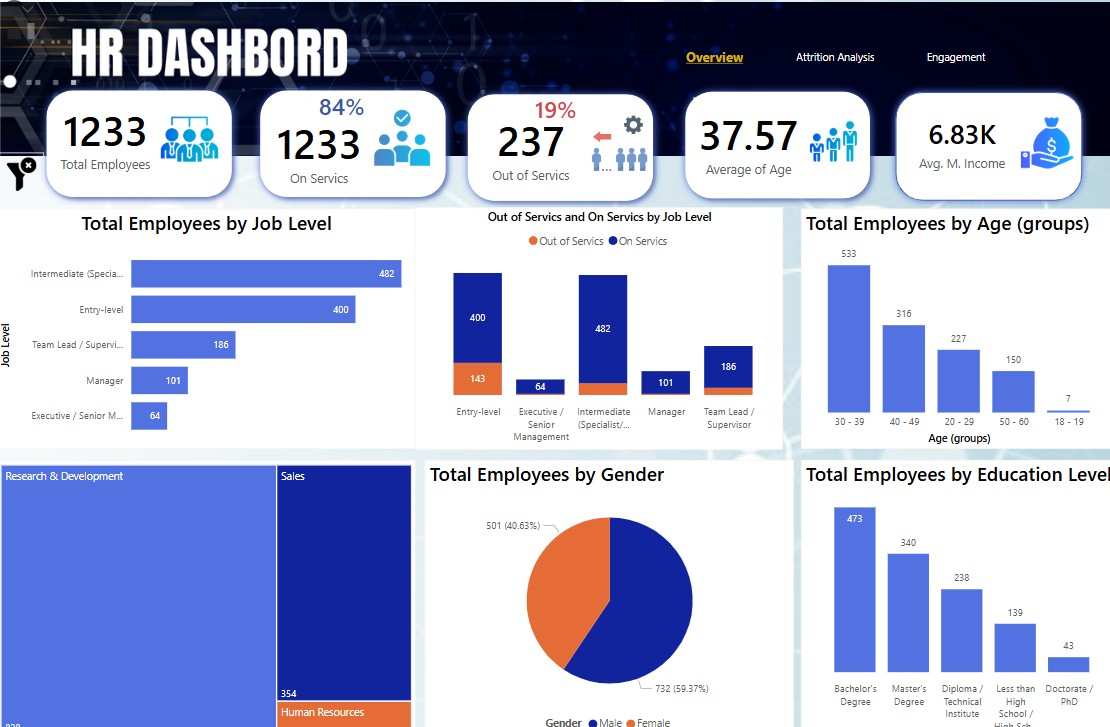

Layout of this report page (visuals, bound fields, positions):
{"tool":"powerbi","page":{"name":"Overview","canvas":[1280,850],"ordinal":0},"visuals":[{"type":"actionButton","box":[0,0,100,40],"z":0},{"type":"shape","box":[778.1,101.1,229.4,140.2],"z":0,"group":"g4"},{"type":"shape","box":[1020.6,102.5,229.4,140.2],"z":0,"group":"g3"},{"type":"shape","box":[530,103.8,230,140],"z":0,"group":"g1"},{"type":"image","box":[0,0,1279.8,191.7],"z":1000},{"type":"card","fields":{"Values":["Avg(HR Data.Age)"]},"box":[796,117.4,126.1,101.9],"z":1000,"group":"g4"},{"type":"card","fields":{"Values":["Measures Table.Out of Servics"]},"box":[547.3,122.9,128.5,103.9],"z":1000,"group":"g1"},{"type":"shape","box":[48.8,99.5,230,140],"z":2000},{"type":"image","box":[674.1,128.2,76.8,82.3],"z":2000,"group":"g1"},{"type":"group","id":"g1","title":"Group 2","box":[530,103.8,230,140],"z":3000},{"type":"card","fields":{"Values":["Measures Table.Out Of Servics %"]},"box":[590.3,115.6,100,32.5],"z":3000,"group":"g1"},{"type":"group","id":"g2","title":"Group 4","box":[778.1,101.1,229.4,140.2],"z":4000},{"type":"group","id":"g3","title":"Group 6","box":[1020.6,102.5,229.5,140],"z":5000},{"type":"card","fields":{"Values":["Avg(HR Data.MonthlyIncome)"]},"box":[1040.9,116.9,125.6,103.9],"z":6000},{"type":"barChart","fields":{"Y":["Measures Table.Total Employees"],"Category":["HR Data.Job Level"]},"box":[0,244,479.3,274.3],"z":7000},{"type":"image","box":[920.9,135.7,70.7,63.5],"z":7002,"group":"g4"},{"type":"image","box":[177.5,127.5,87.5,75],"z":8000},{"type":"group","id":"g4","title":"Group 5","box":[778.1,101.1,229.4,140.2],"z":8001,"group":"g2"},{"type":"image","box":[1166,133.3,70.6,70.1],"z":8002,"group":"g3"},{"type":"card","fields":{"Values":["Measures Table.Total Employees"]},"box":[61.2,111.2,127.5,102.5],"z":9000},{"type":"columnChart","fields":{"Y":["Measures Table.Total Employees"],"Category":["HR Data.Age (groups)"]},"box":[919.6,244,360.9,274.3],"z":10000},{"type":"pieChart","fields":{"Category":["HR Data.Gender"],"Y":["Measures Table.Total Employees"]},"box":[489.4,531.3,421.5,319],"z":11000},{"type":"treemap","fields":{"Values":["Measures Table.Total Employees"],"Group":["HR Data.Department Hierarchy.Department","HR Data.Department Hierarchy.JobRole"]},"box":[0,531.3,479.3,319],"z":12000},{"type":"columnChart","fields":{"Y":["Measures Table.Total Employees"],"Category":["HR Data.Education Level"]},"box":[920,531.1,360,318.9],"z":13000},{"type":"shape","box":[292.3,99.5,230.1,139.9],"z":14000},{"type":"image","box":[421.4,124.4,85.5,77.7],"z":15000},{"type":"card","fields":{"Values":["Measures Table.On Servics"]},"box":[306.3,127.5,127.5,102.6],"z":16000},{"type":"card","fields":{"Values":["Measures Table.On Servics %"]},"box":[345.2,113.5,99.5,31.1],"z":17000},{"type":"actionButton","box":[300.4,109,213,124.2],"z":18000},{"type":"actionButton","box":[526.9,101.1,229.5,134.3],"z":19000},{"type":"image","box":[3.5,180,51.8,48.2],"z":20000},{"type":"slicer","fields":{"Values":["HR Data.Attrition"]},"box":[0,0,49.2,55.7],"z":21000},{"type":"columnChart","fields":{"Category":["HR Data.Job Level"],"Y":["Measures Table.Out of Servics","Measures Table.On Servics"]},"box":[479,242.2,421.1,276.7],"z":22000},{"type":"pageNavigator","box":[756.7,45.6,405.6,50],"z":23000}]}

Visuals, with their boxes in screenshot pixels (x1, y1, x2, y2), scaled from the page's 1280x850 canvas onto the 1110x727 screenshot:
actionButton: x1=0, y1=0, x2=87, y2=34
shape: x1=675, y1=86, x2=874, y2=206
shape: x1=885, y1=88, x2=1084, y2=208
shape: x1=460, y1=89, x2=659, y2=209
image: x1=0, y1=0, x2=1109, y2=164
card - Avg(HR Data.Age): x1=690, y1=100, x2=800, y2=188
card - Measures Table.Out of Servics: x1=475, y1=105, x2=586, y2=194
shape: x1=42, y1=85, x2=242, y2=205
image: x1=585, y1=110, x2=651, y2=180
"Group 2" group: x1=460, y1=89, x2=659, y2=209
card - Measures Table.Out Of Servics %: x1=512, y1=99, x2=599, y2=127
"Group 4" group: x1=675, y1=86, x2=874, y2=206
"Group 6" group: x1=885, y1=88, x2=1084, y2=207
card - Avg(HR Data.MonthlyIncome): x1=903, y1=100, x2=1012, y2=189
barChart - Measures Table.Total Employees x HR Data.Job Level: x1=0, y1=209, x2=416, y2=443
image: x1=799, y1=116, x2=860, y2=170
image: x1=154, y1=109, x2=230, y2=173
"Group 5" group: x1=675, y1=86, x2=874, y2=206
image: x1=1011, y1=114, x2=1072, y2=174
card - Measures Table.Total Employees: x1=53, y1=95, x2=164, y2=183
columnChart - Measures Table.Total Employees x HR Data.Age (groups): x1=797, y1=209, x2=1109, y2=443
pieChart - HR Data.Gender x Measures Table.Total Employees: x1=424, y1=454, x2=790, y2=726
treemap - Measures Table.Total Employees x HR Data.Department Hierarchy.Department: x1=0, y1=454, x2=416, y2=726
columnChart - Measures Table.Total Employees x HR Data.Education Level: x1=798, y1=454, x2=1109, y2=726
shape: x1=253, y1=85, x2=453, y2=205
image: x1=365, y1=106, x2=440, y2=173
card - Measures Table.On Servics: x1=266, y1=109, x2=376, y2=197
card - Measures Table.On Servics %: x1=299, y1=97, x2=386, y2=124
actionButton: x1=261, y1=93, x2=445, y2=199
actionButton: x1=457, y1=86, x2=656, y2=201
image: x1=3, y1=154, x2=48, y2=195
slicer - HR Data.Attrition: x1=0, y1=0, x2=43, y2=48
columnChart - HR Data.Job Level x Measures Table.Out of Servics: x1=415, y1=207, x2=781, y2=444
pageNavigator: x1=656, y1=39, x2=1008, y2=82
